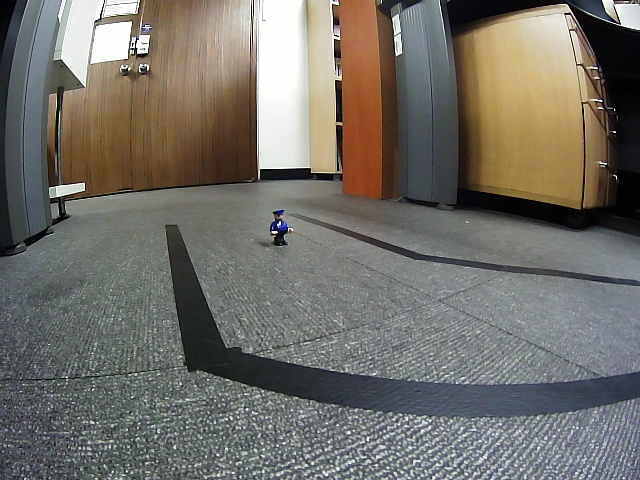person: (270, 210, 294, 246)
